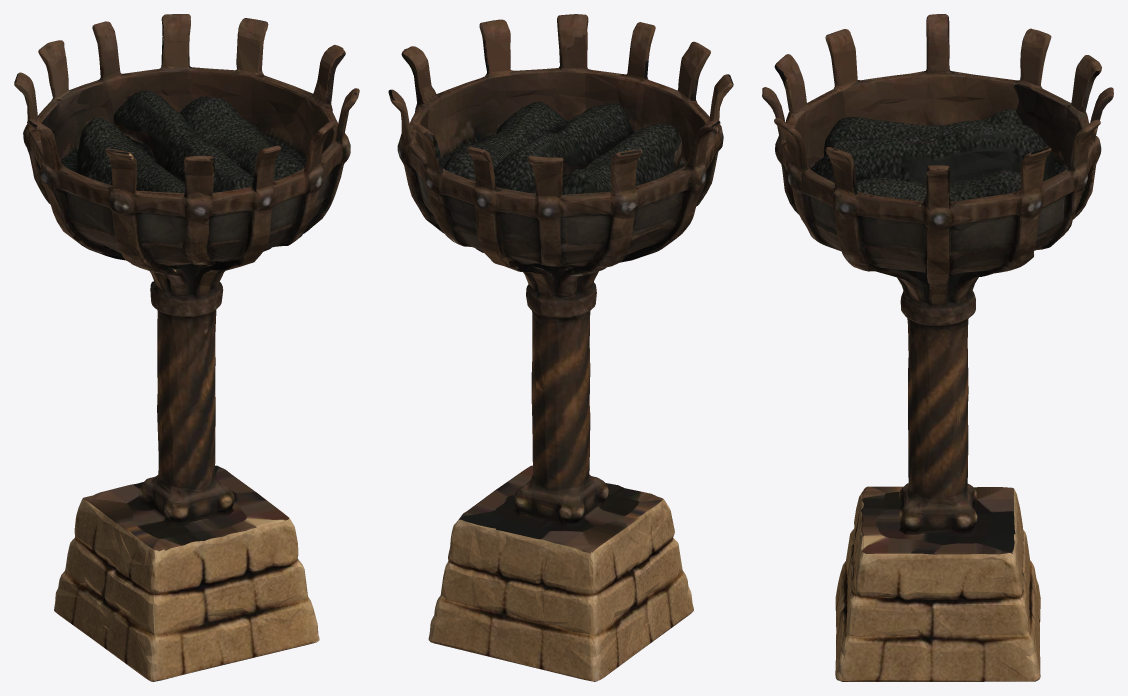
The model's file is brazier-hd.glb.
3 views of the same model, side by side, from view 1: azimuth 30°, elevation 25°; view 2: azimuth 150°, elevation 25°; view 3: azimuth 270°, elevation 25° (orthographic).
Parts seen in each view (by area): view 1: tmpeubasm5i.ply; view 2: tmpeubasm5i.ply; view 3: tmpeubasm5i.ply.
Boxes of the visible parts, x1,y1,x2,y2 form: tmpeubasm5i.ply: (14,14,359,681); tmpeubasm5i.ply: (388,14,733,681); tmpeubasm5i.ply: (762,14,1113,681).
Size of the model in its own units: 1.21 by 1.99 by 1.16.
1 material, 1 textured.
